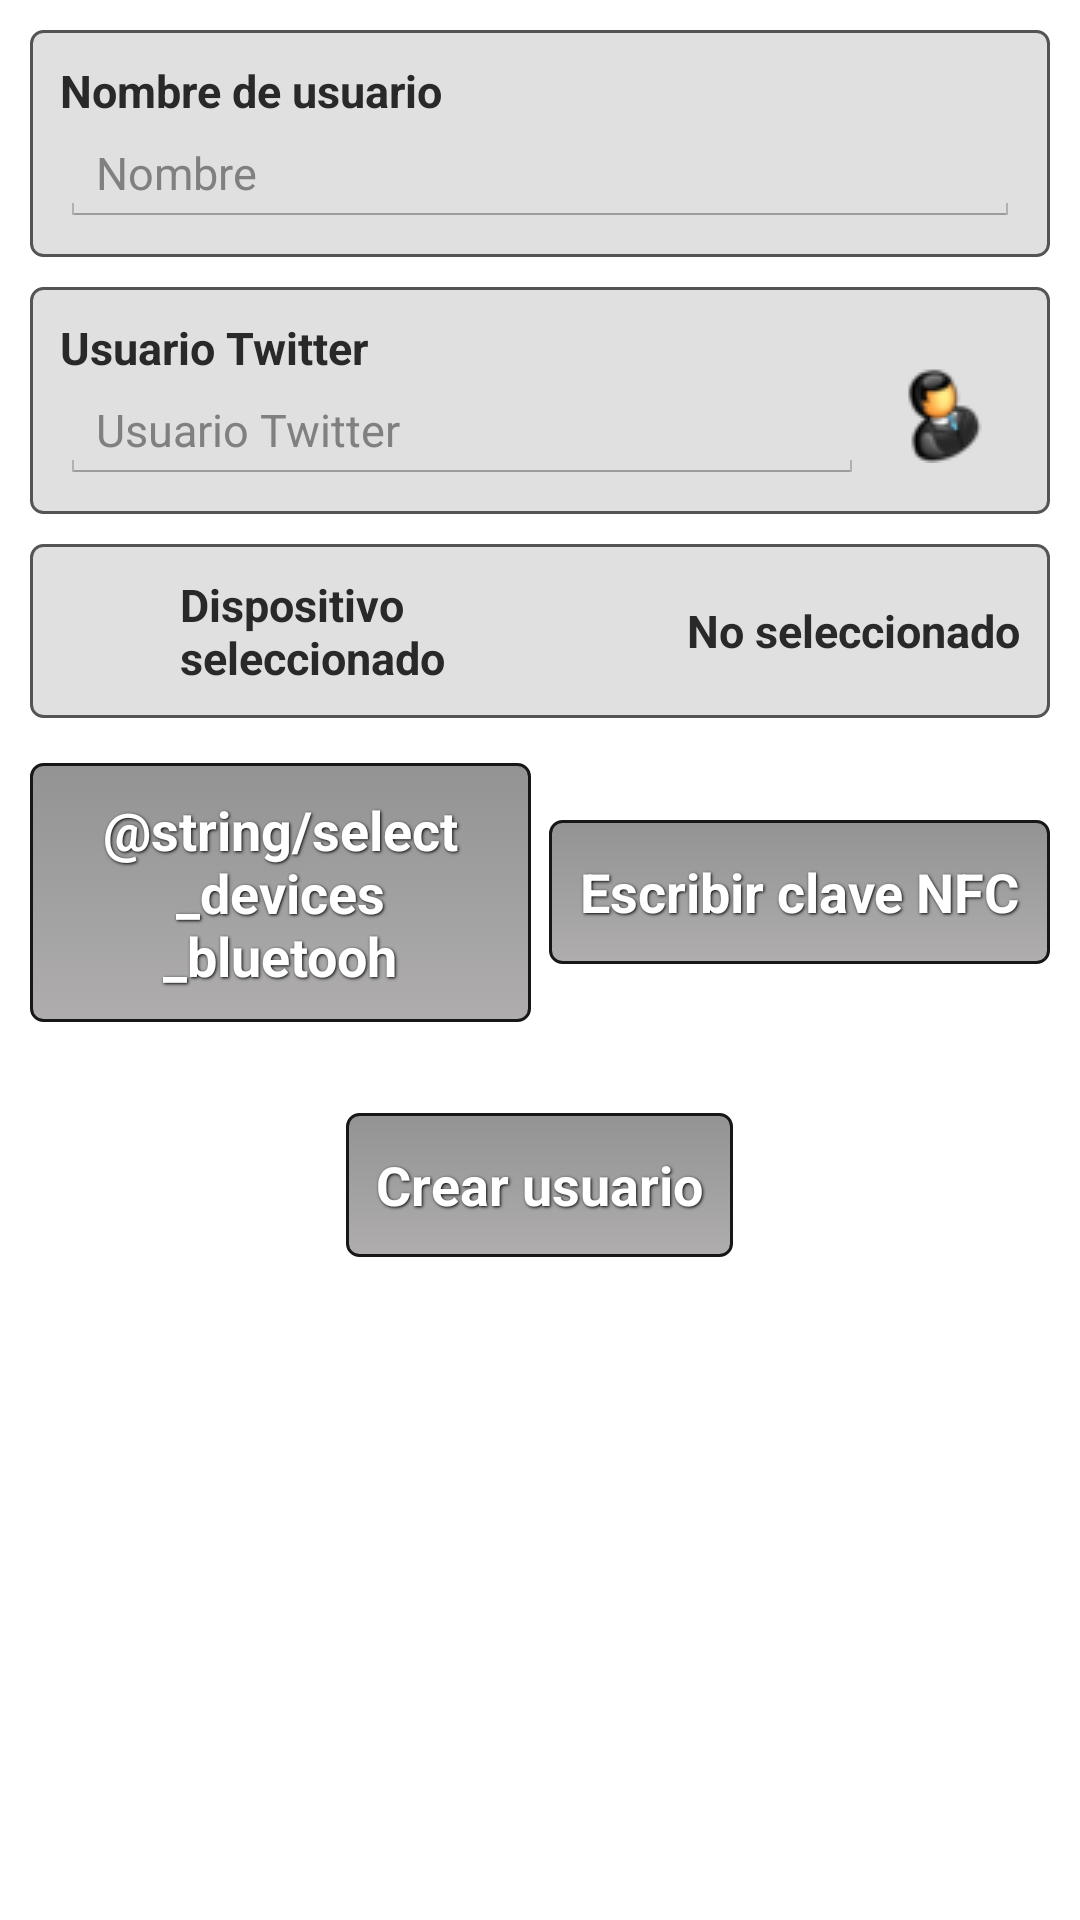

Where icons sit on this 1080 x 1920 app screen, as detection(x1, y1, x2, y2):
twitter user: detection(908, 369, 981, 463)
